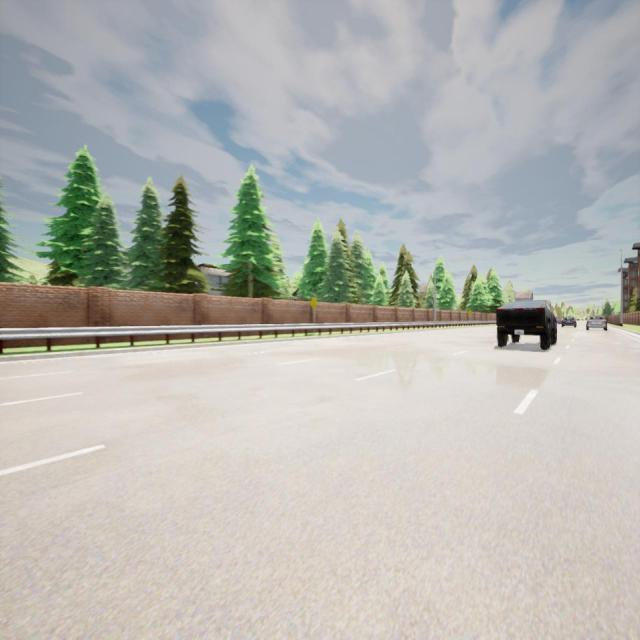Vehicle: (495, 300, 557, 350), (586, 316, 608, 331), (561, 316, 577, 328)
